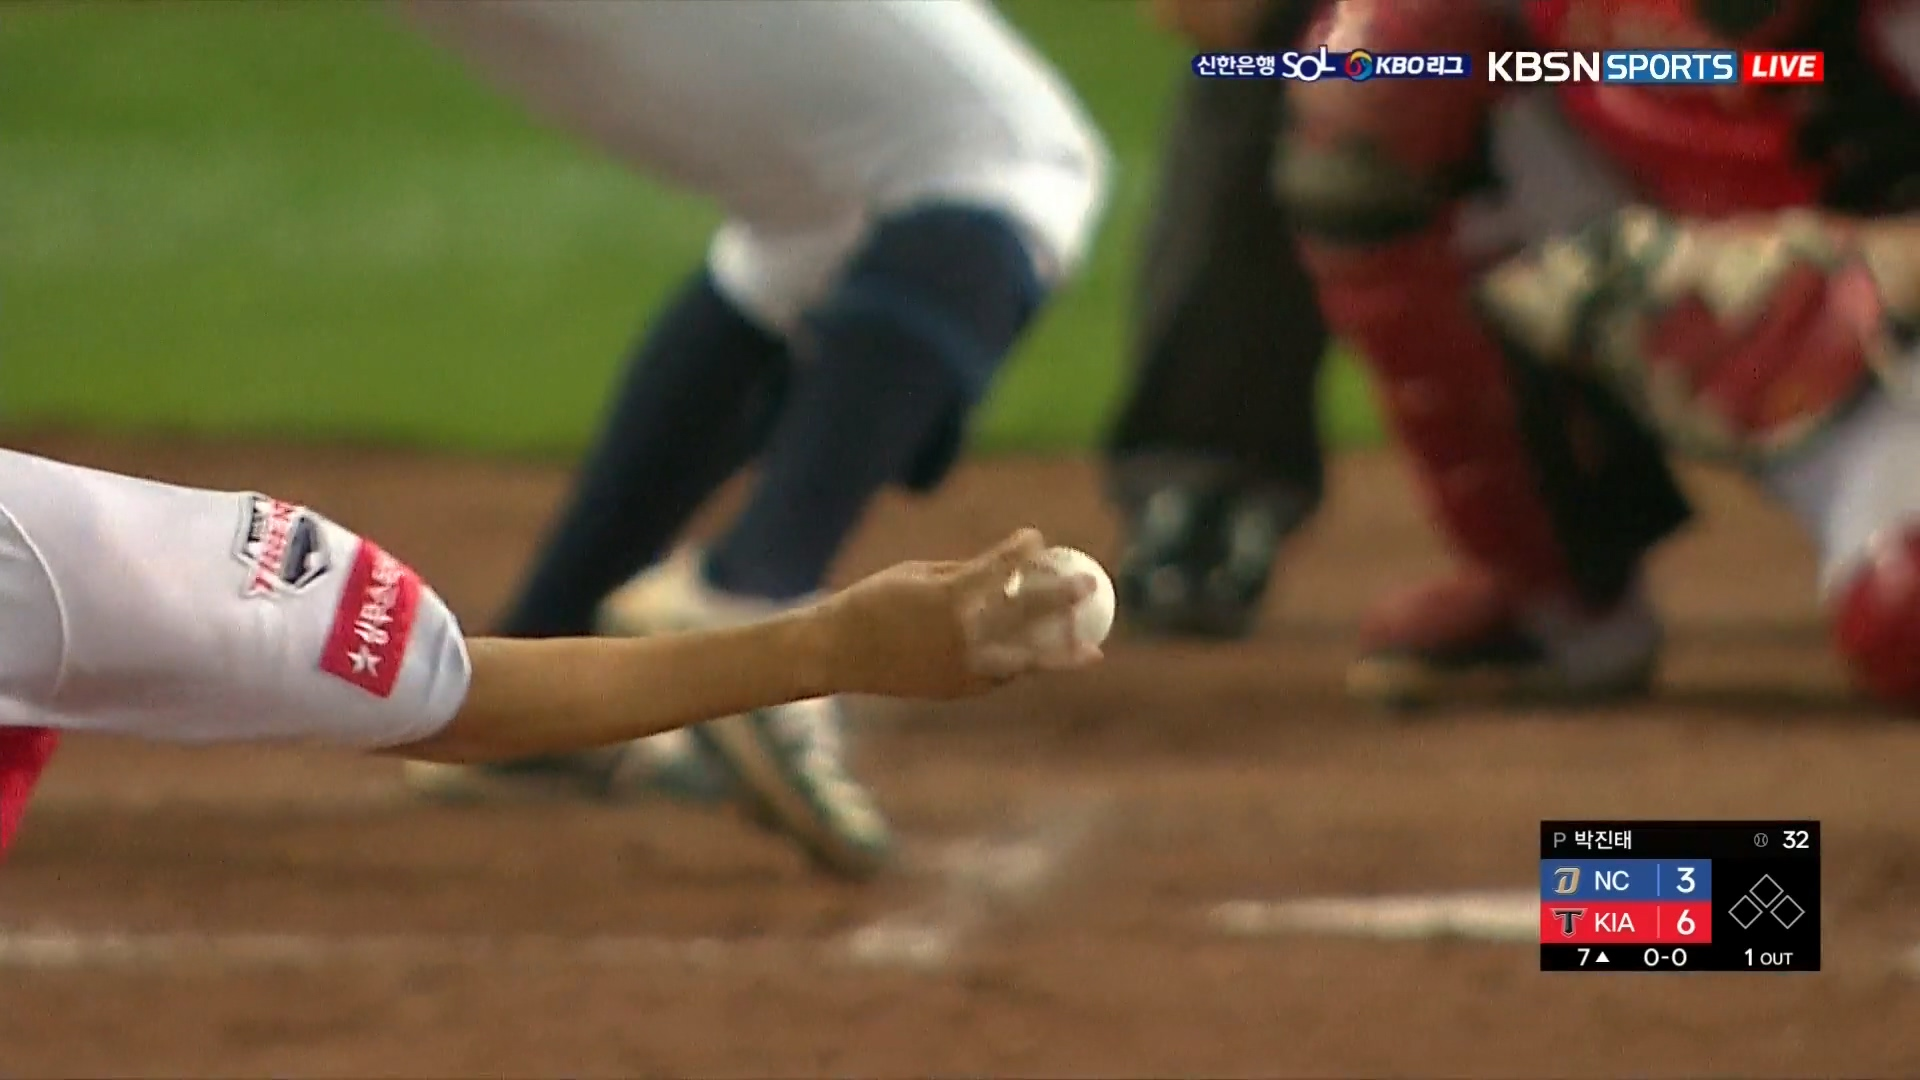zoomin_hand: (454, 522, 1121, 790)
